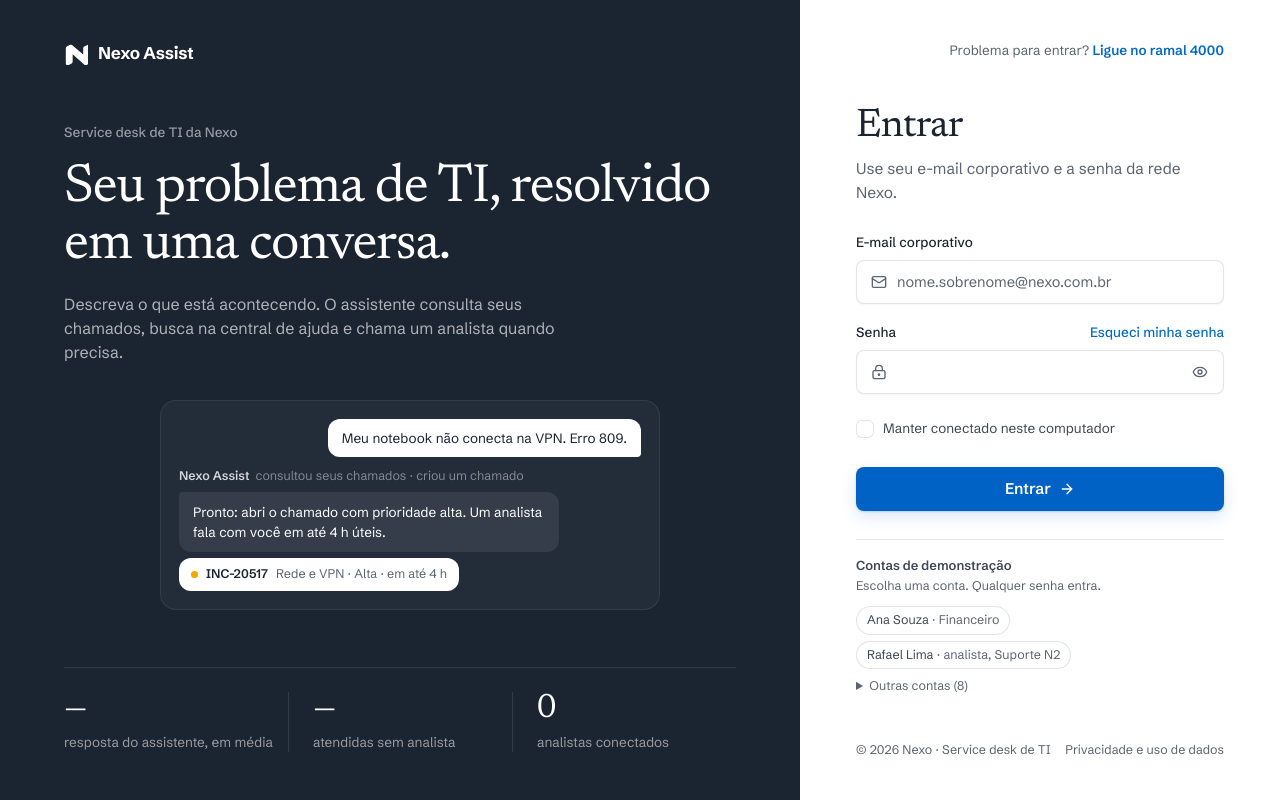
Scenario: tela de login (RF01, tela 1) › privacidade abre sobreposta mesmo no desktop, sem esmagar o formulário
Click the button "Privacidade e uso de dados" at (1145, 751), box [1065,741,1224,760]
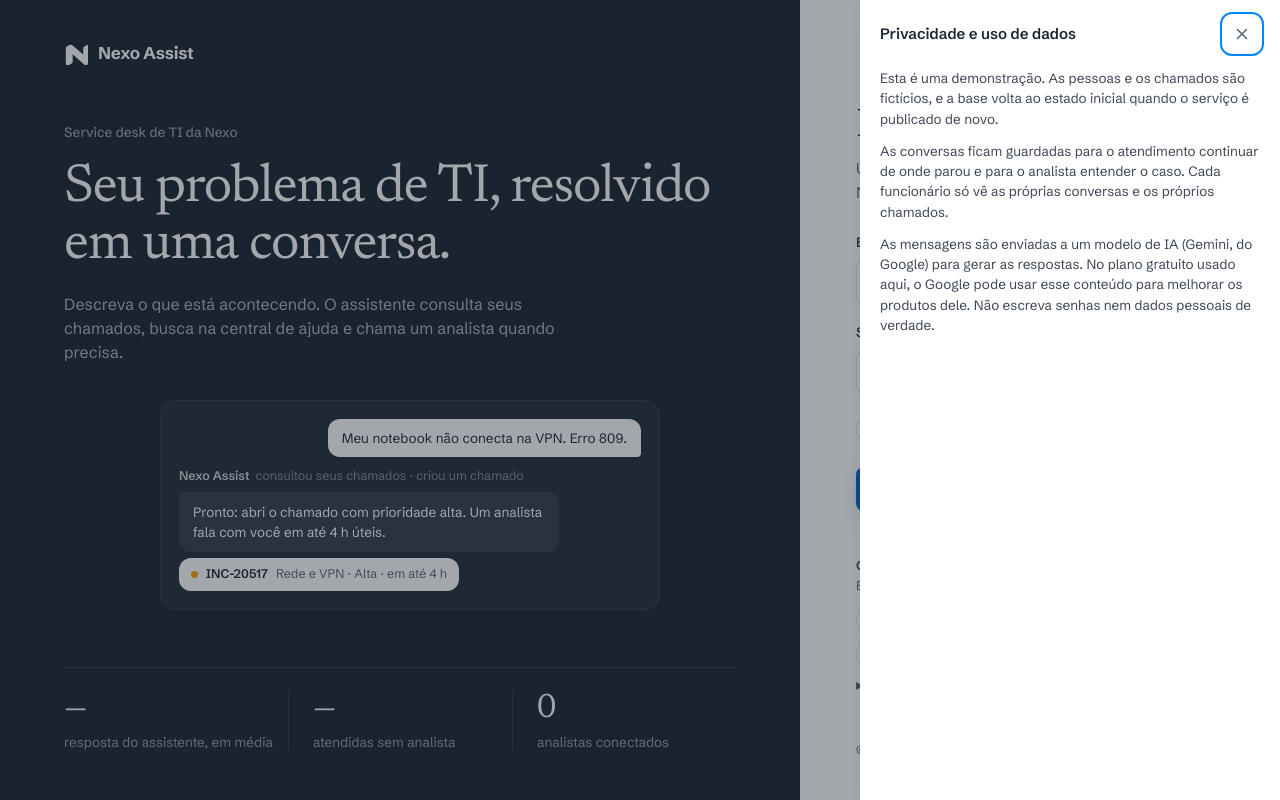
Now the dialog "Privacidade e uso de dados" is shown, box [860,0,1279,799]
